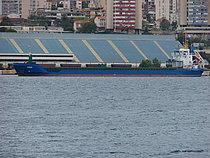Ship: (11, 50, 207, 83)
